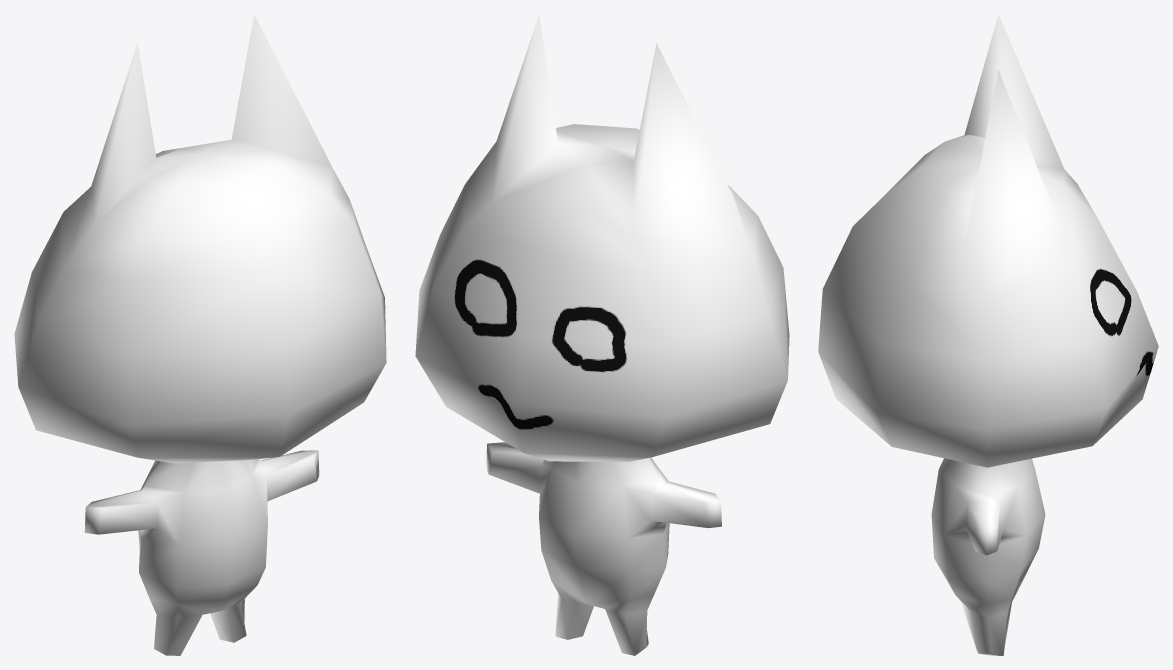
File: azal.glb
The picture shows the model from 3 angles, left to right: view 1: azimuth 30°, elevation 25°; view 2: azimuth 150°, elevation 25°; view 3: azimuth 270°, elevation 25°; orthographic projection. The views are drawn at different scales.
Parts seen in each view (by area): view 1: Sphere.002; view 2: Sphere.002; view 3: Sphere.002.
Boxes of the visible parts, x1,y1,x2,y2 form: Sphere.002: (14, 14, 386, 655); Sphere.002: (415, 15, 789, 655); Sphere.002: (818, 14, 1158, 655).
Bounding box in the file's own units: 2 × 3.21 × 1.66.
1 material, 1 textured.
